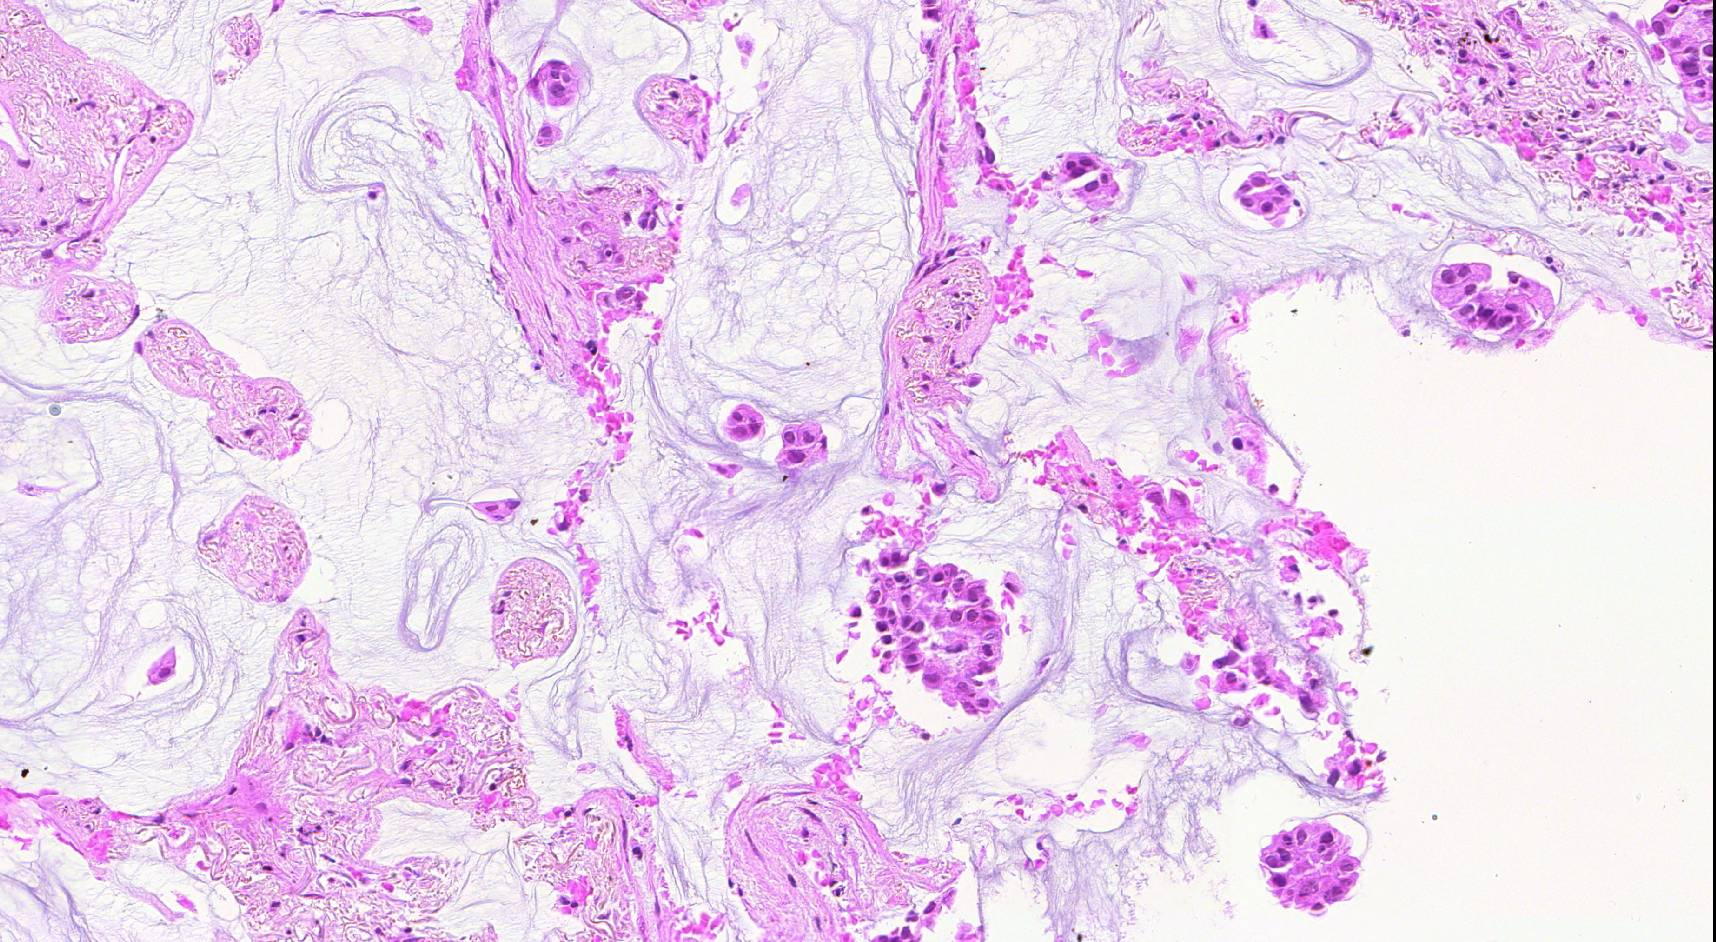stas: (846, 543, 1009, 718), (1430, 257, 1562, 343), (1257, 821, 1368, 918), (1046, 147, 1123, 211), (774, 415, 835, 474), (1234, 170, 1298, 222), (525, 60, 584, 106), (720, 396, 765, 449)
